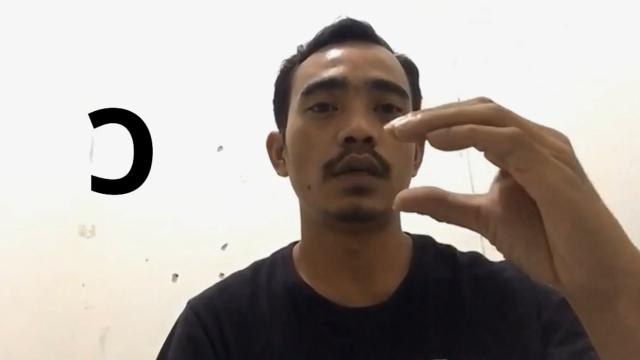C: (385, 94, 603, 292)
